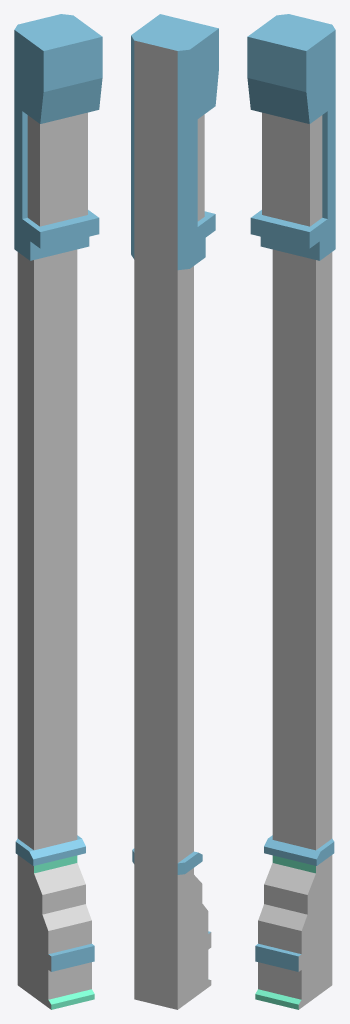
Rendered from Prop_Building_Eastern_Facade_Column_01.FBX.
The picture shows the model from 3 angles, left to right: view 1: azimuth 30°, elevation 25°; view 2: azimuth 150°, elevation 25°; view 3: azimuth 330°, elevation 25°; orthographic projection.
Visible parts, largest first — view 1: Prop_Building_Eastern_Facade_Column_01; view 2: Prop_Building_Eastern_Facade_Column_01; view 3: Prop_Building_Eastern_Facade_Column_01.
Boxes of the visible parts, x1,y1,x2,y2 form: Prop_Building_Eastern_Facade_Column_01: (14, 14, 102, 1009); Prop_Building_Eastern_Facade_Column_01: (131, 14, 218, 1009); Prop_Building_Eastern_Facade_Column_01: (247, 14, 335, 1009).
Size of the model in its own units: 398 by 6201 by 394.
